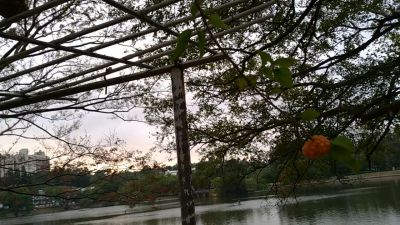eggs: (301, 134, 332, 160)
